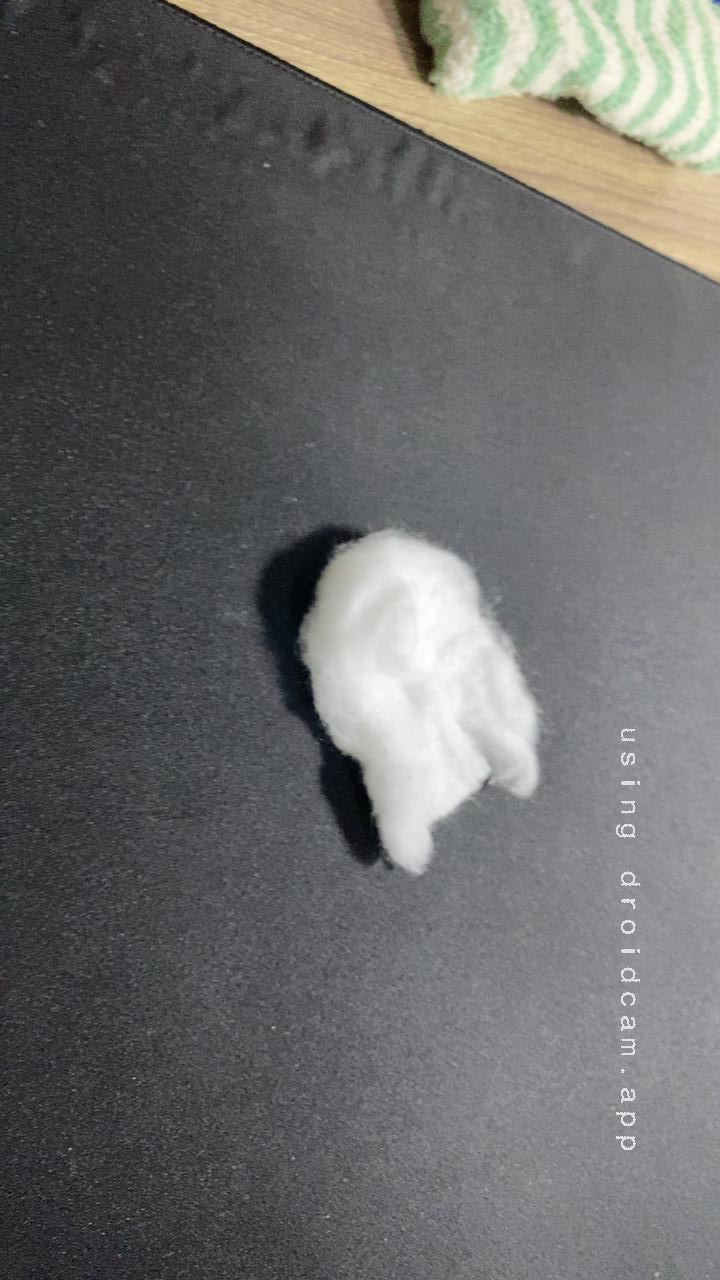cotton: (240, 508, 574, 892)
